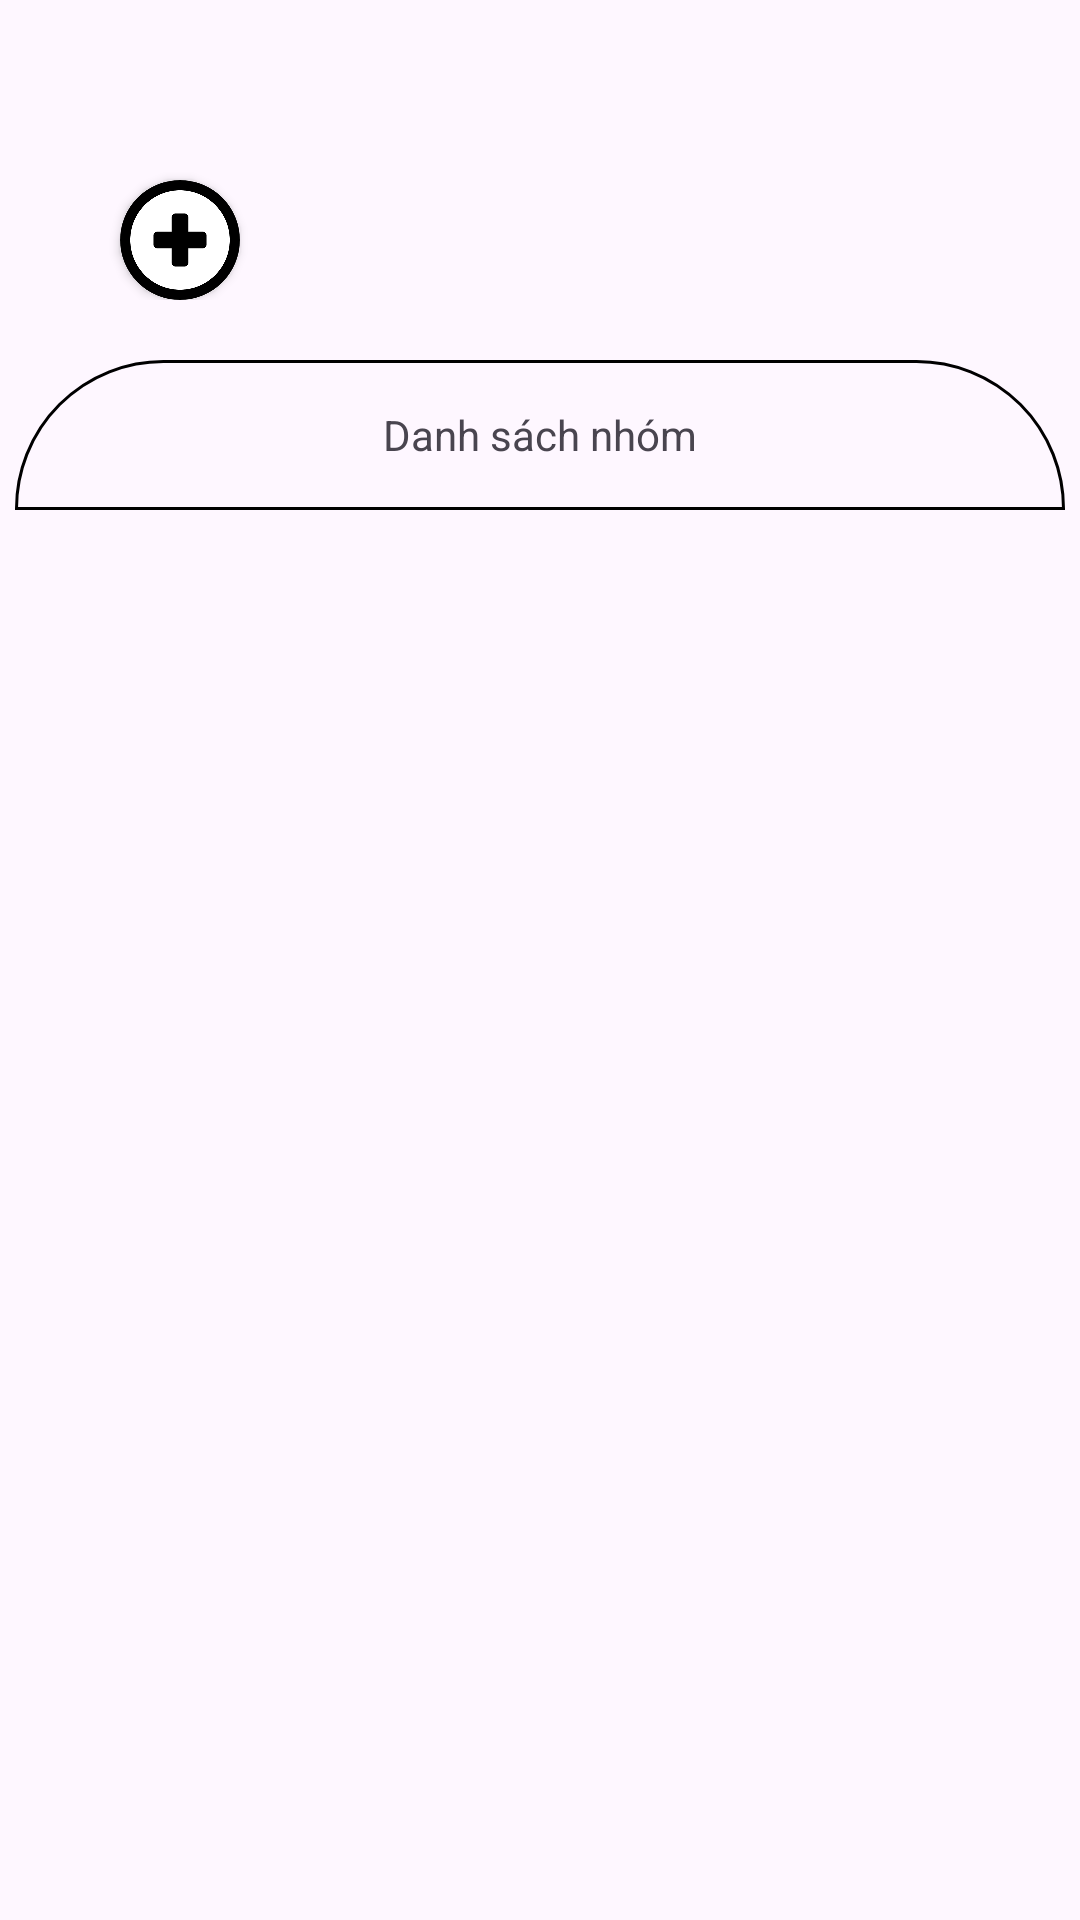

Icons on this 1080 × 1920 Android screen, each with its box as (x1, y1, x2, y2):
add: (120, 180, 240, 300)
